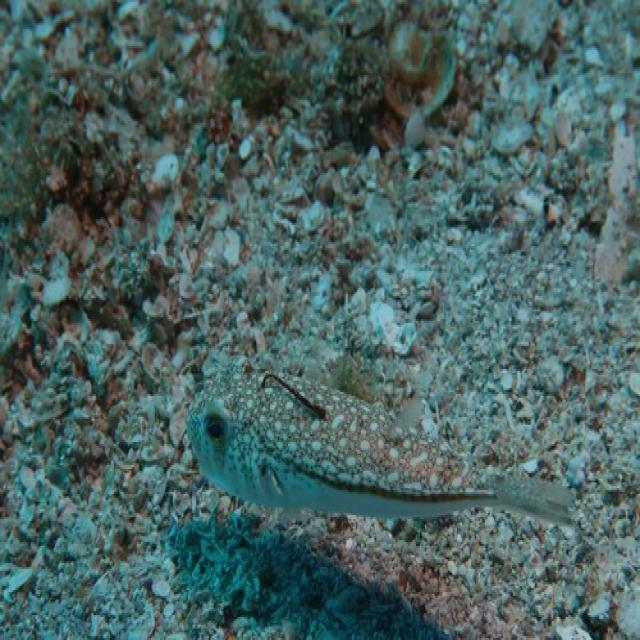Balik: (187, 360, 570, 524)
